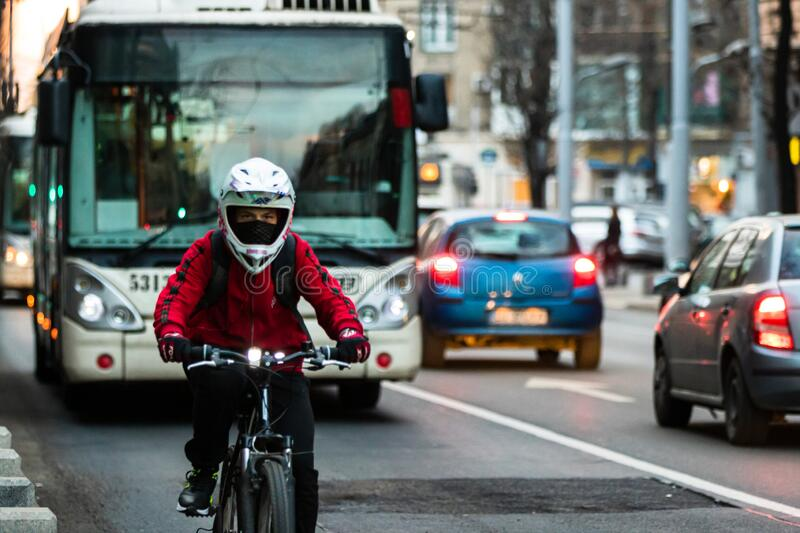bike: (155, 158, 365, 528)
bus: (37, 5, 427, 377)
car: (645, 211, 800, 429), (427, 206, 605, 376)
